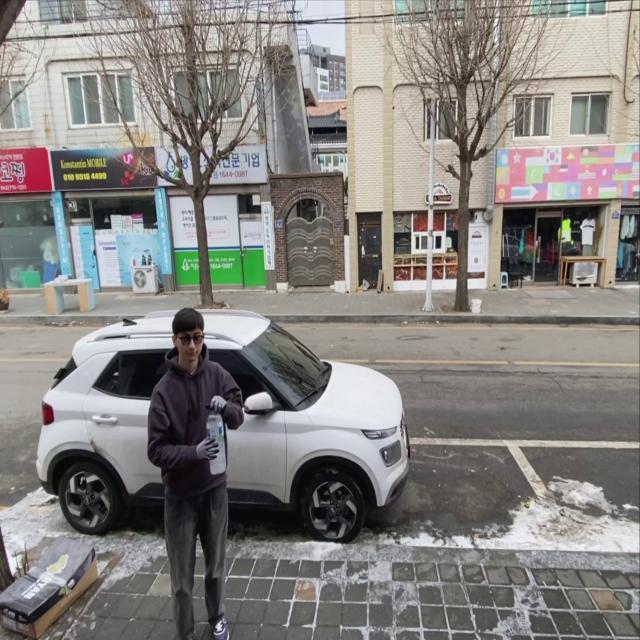gloved_hand: (193, 435, 222, 464), (209, 389, 230, 416)
